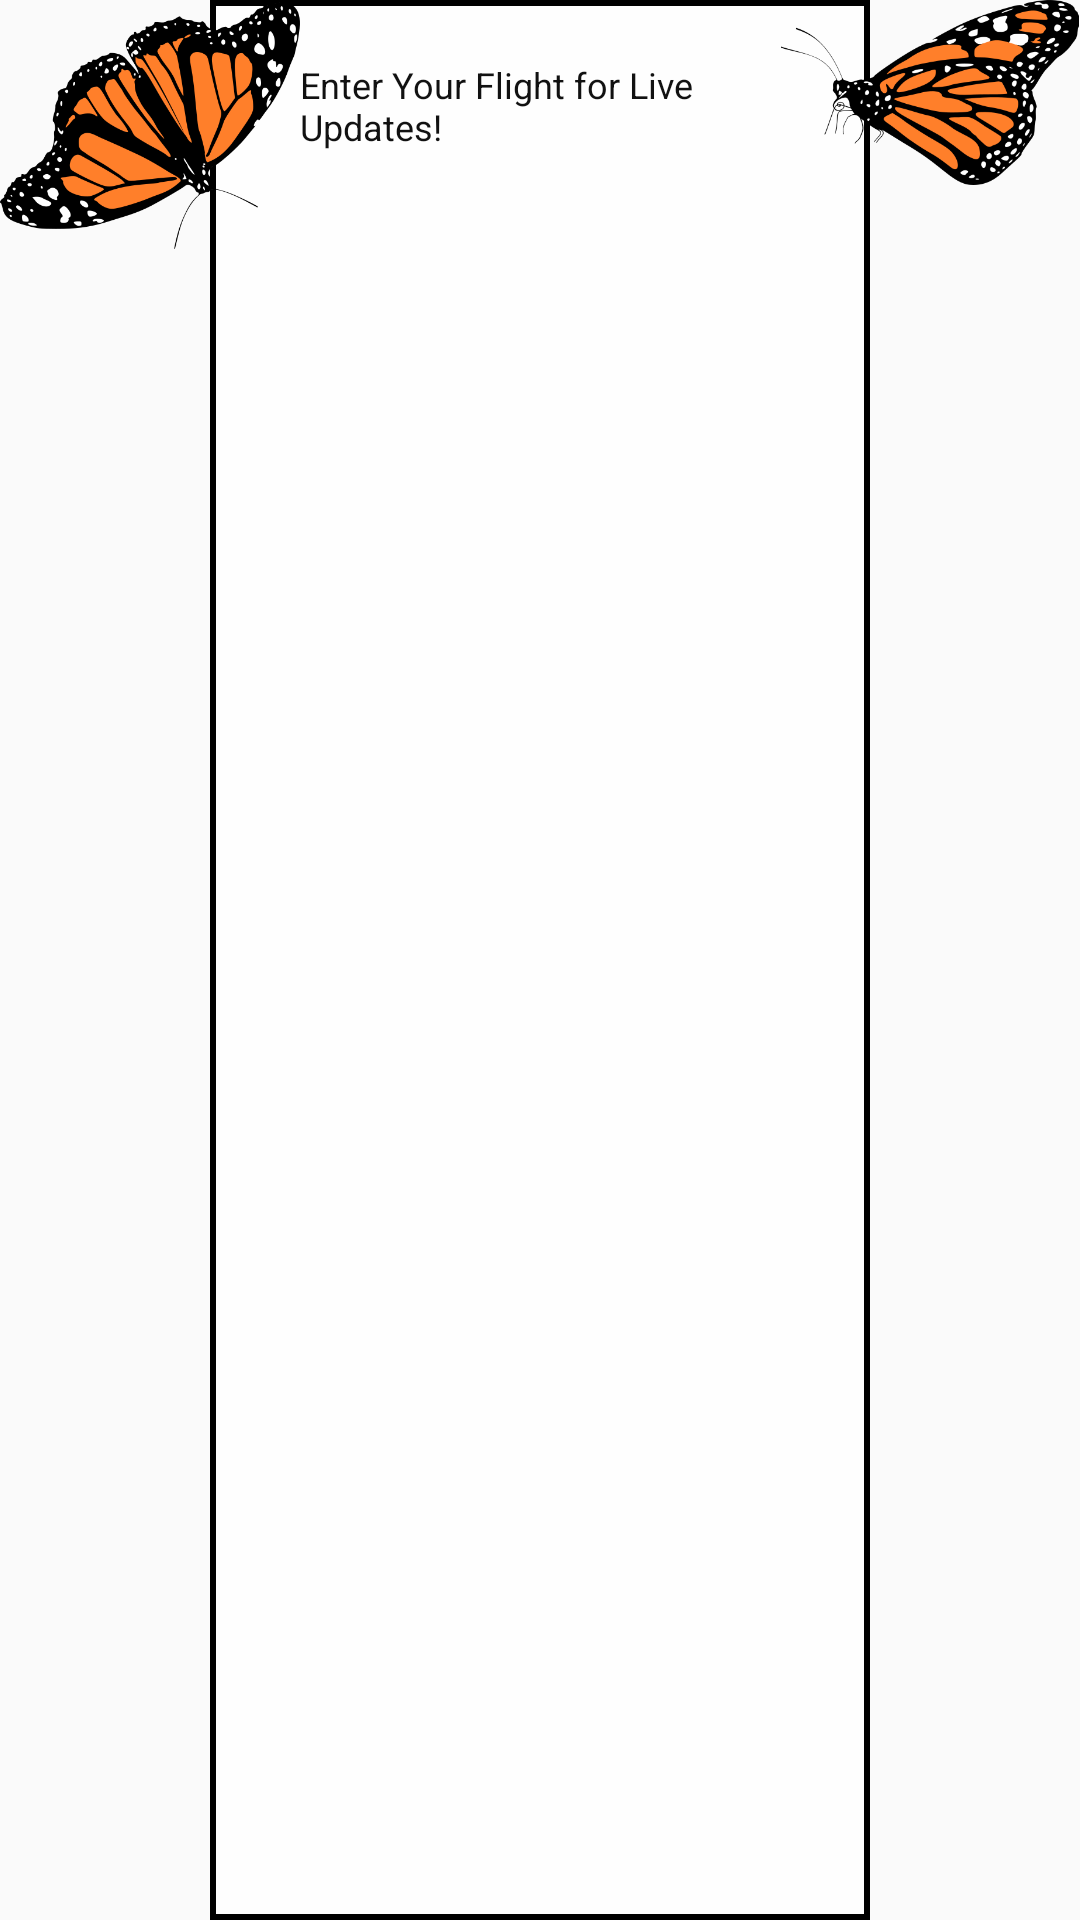

Icons on this 1080x1920 Android screen, each with the point to tap as [x,y]:
butterfly side: [929,92]
butterfly top: [150,124]
